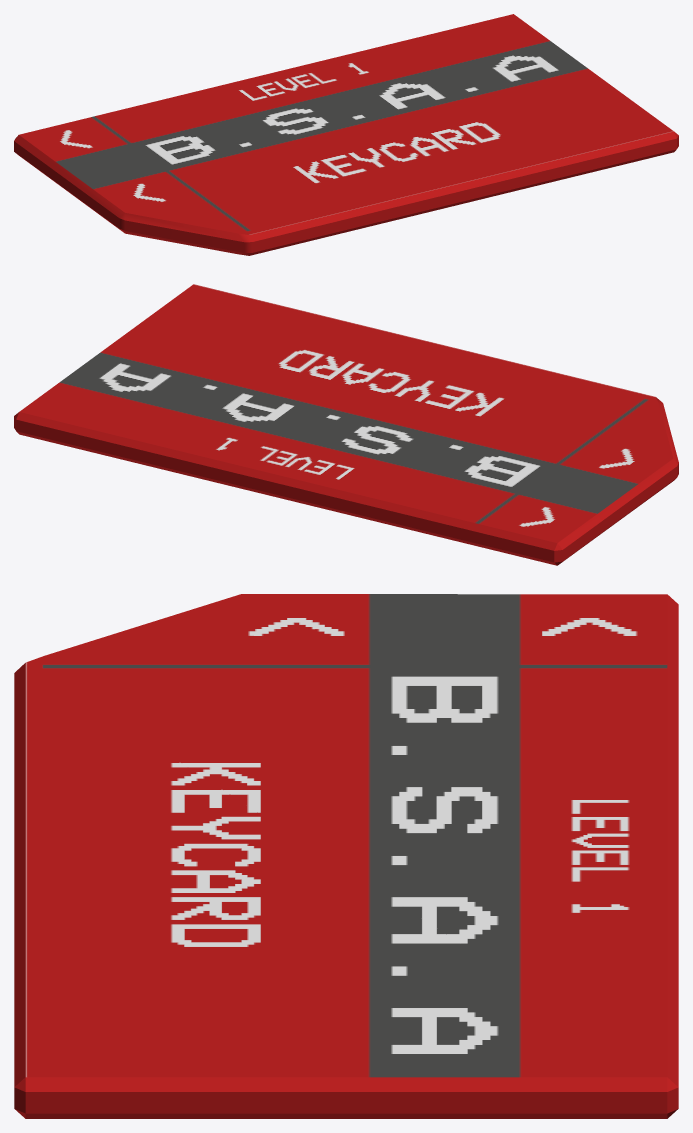
File: KEYCARD_LEVEL_1_RED.fbx
3 renders of one model, top to bottom at view 1: azimuth 30°, elevation 25°; view 2: azimuth 150°, elevation 25°; view 3: azimuth 270°, elevation 25°, orthographic. The views are drawn at different scales.
Parts seen in each view (by area): view 1: pCube2; view 2: pCube2; view 3: pCube2.
Part boxes in pixels (box(x1,y1,x2,y2)): pCube2: box(14, 14, 678, 255); pCube2: box(14, 284, 678, 565); pCube2: box(14, 594, 678, 1118).
Bounding box in the file's own units: 0.4214 × 0.0166 × 0.2402.
Materials: 1 (1 with a texture image).
